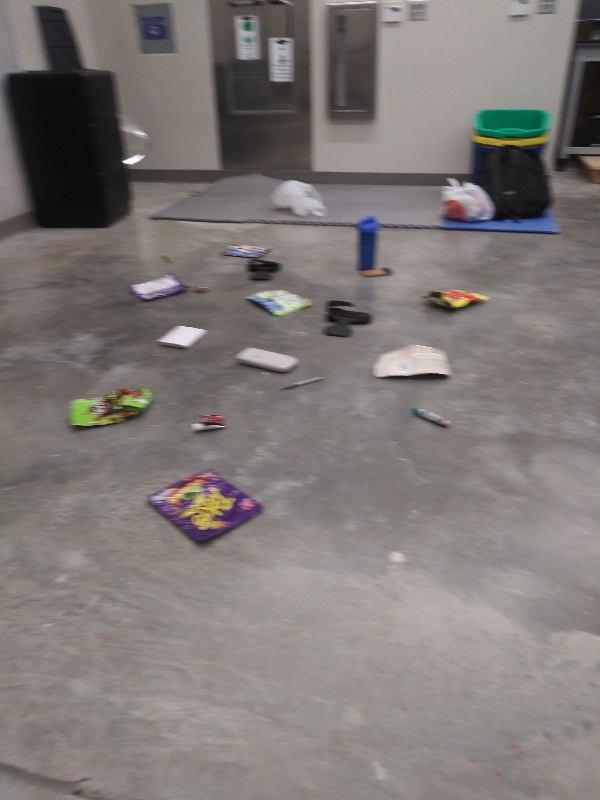bag: (142, 463, 268, 550), (64, 382, 159, 429), (372, 343, 458, 383), (237, 287, 318, 322), (414, 282, 495, 316), (121, 273, 188, 305), (217, 236, 276, 259)
